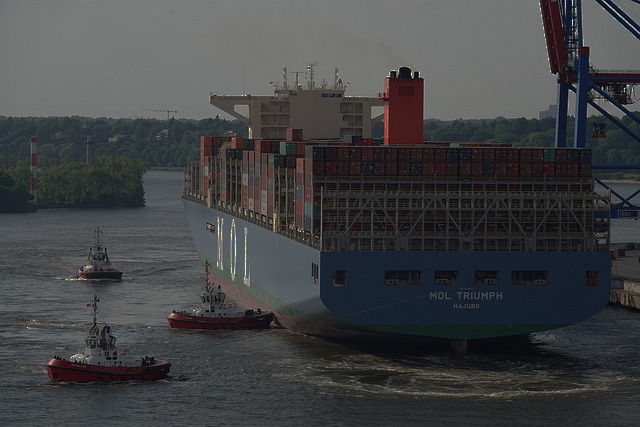container_ship: (182, 60, 612, 353)
tug_boat: (44, 299, 178, 384), (168, 259, 273, 336), (75, 223, 119, 281)
